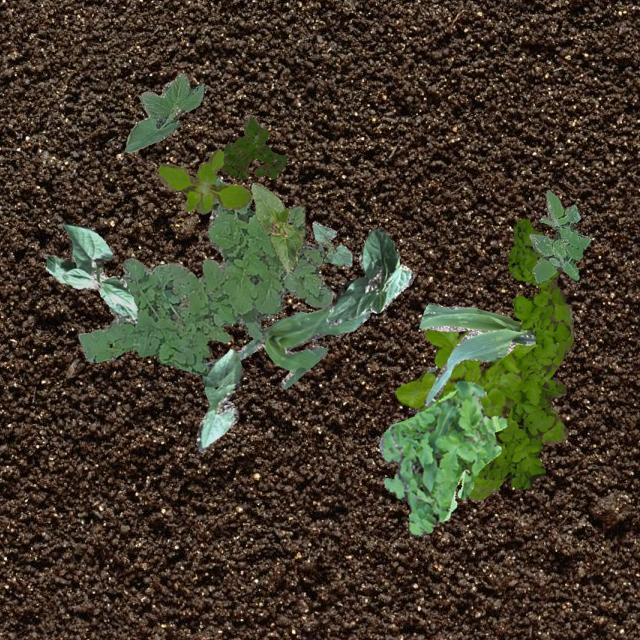crop: (418, 302, 536, 406), (236, 304, 370, 388), (44, 222, 138, 322), (326, 228, 412, 324), (123, 72, 204, 152), (194, 348, 242, 452), (250, 182, 302, 272), (312, 220, 351, 266)
weed: (78, 174, 332, 373), (394, 302, 572, 500), (478, 218, 570, 488), (378, 379, 507, 536), (156, 148, 250, 212), (528, 188, 590, 282), (220, 114, 286, 178), (410, 366, 434, 414)
